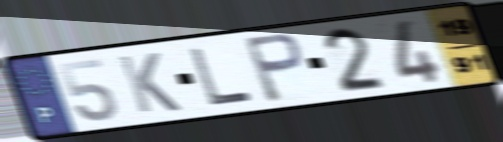2: (320, 24, 389, 96)
4: (392, 17, 443, 85)
5: (54, 56, 120, 123)
K: (114, 51, 185, 116)
L: (185, 46, 256, 108)
P: (240, 31, 307, 105)
